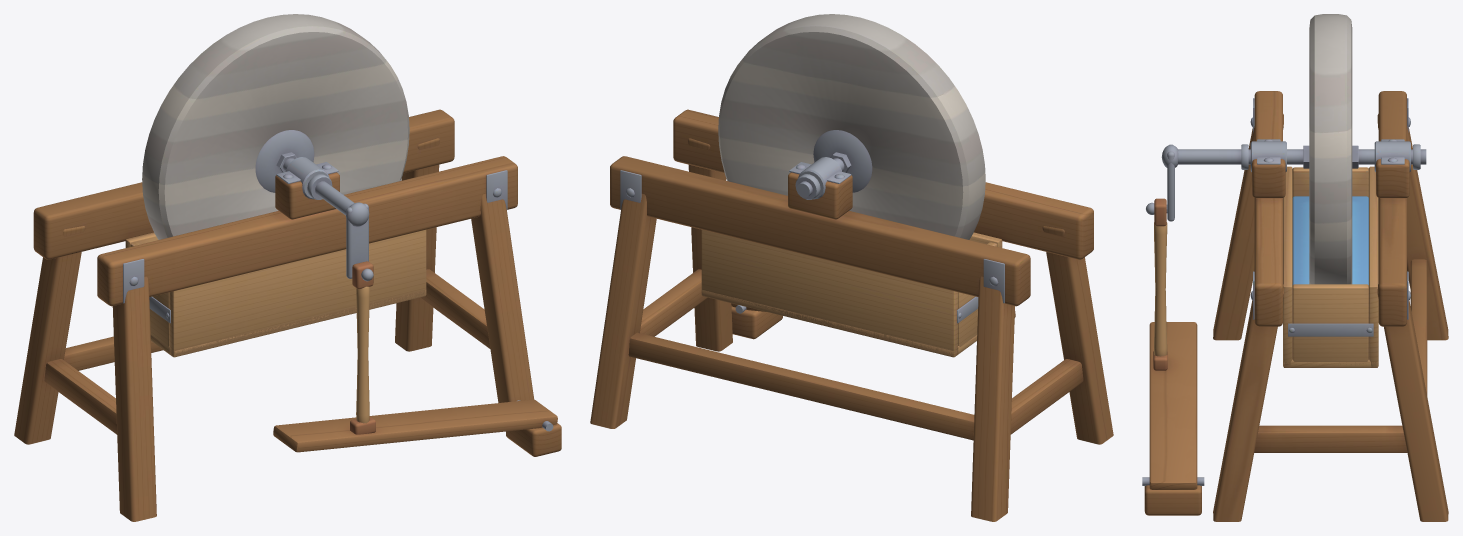
Rendered from grindstone.glb.
3 views of the same model, side by side, from view 1: azimuth 30°, elevation 25°; view 2: azimuth 150°, elevation 25°; view 3: azimuth 270°, elevation 25° (orthographic). The views are drawn at different scales.
Visible parts, largest first — view 1: grindstone_body, grindstone_runner, grindstone_treadle; view 2: grindstone_body, grindstone_runner; view 3: grindstone_body, grindstone_runner, grindstone_treadle.
Boxes of the visible parts, x1,y1,x2,y2 form: grindstone_body: [14, 109, 561, 521]; grindstone_runner: [142, 14, 409, 281]; grindstone_treadle: [273, 261, 557, 452]; grindstone_body: [590, 109, 1113, 521]; grindstone_runner: [718, 14, 985, 239]; grindstone_body: [1144, 91, 1448, 521]; grindstone_runner: [1146, 14, 1426, 284]; grindstone_treadle: [1142, 198, 1204, 489].
Bounding box in the file's own units: 0.97 × 0.92 × 0.6418.
Materials: 3 (3 with a texture image).
